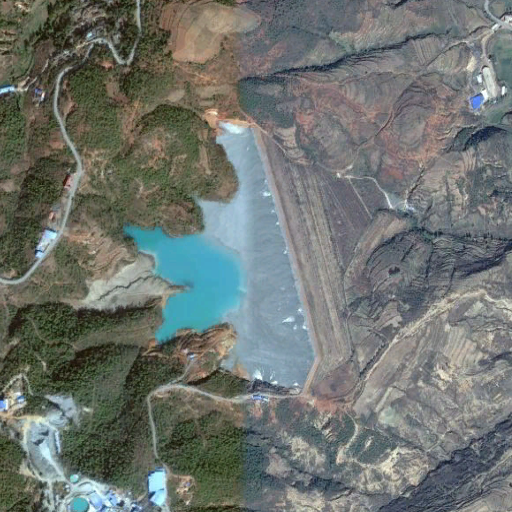tp: (134, 121, 402, 398)
